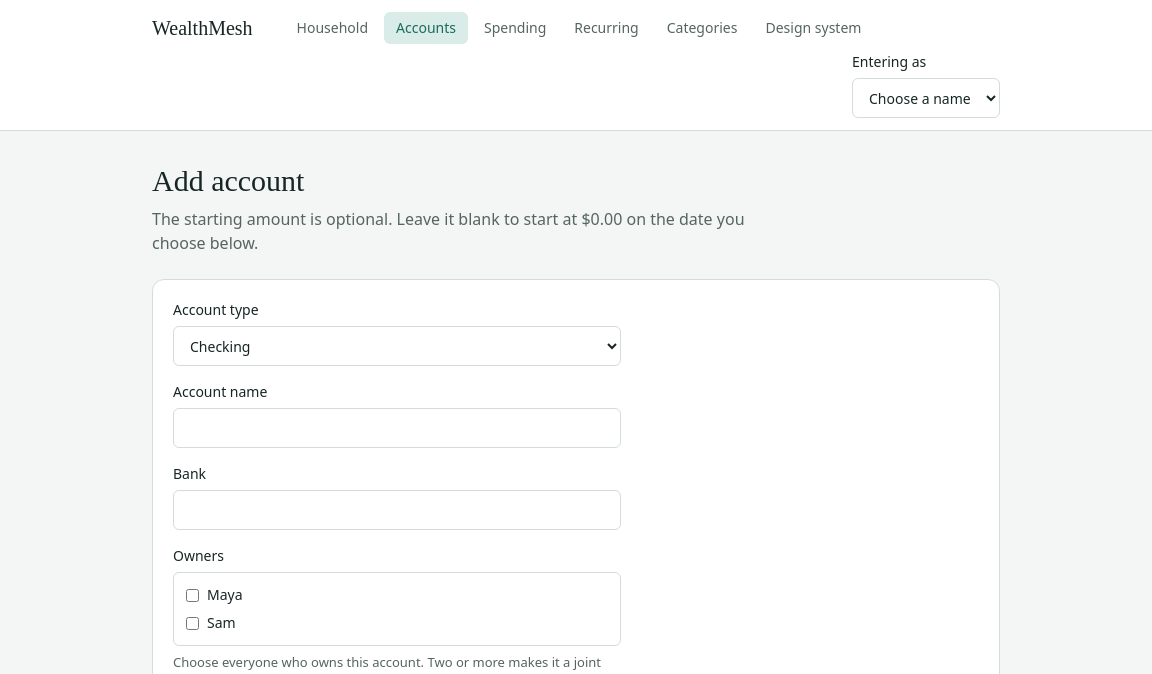
Test: adding a savings account › V2_SAVINGS_001 follows Emergency Savings from the list to its detail and its actions
Select "Savings" in the dropdown labelled "Account type": (397, 346) [173, 326, 621, 366]
In the field labelled "Account name": (397, 428) [173, 408, 621, 448], type "Emergency Savings"
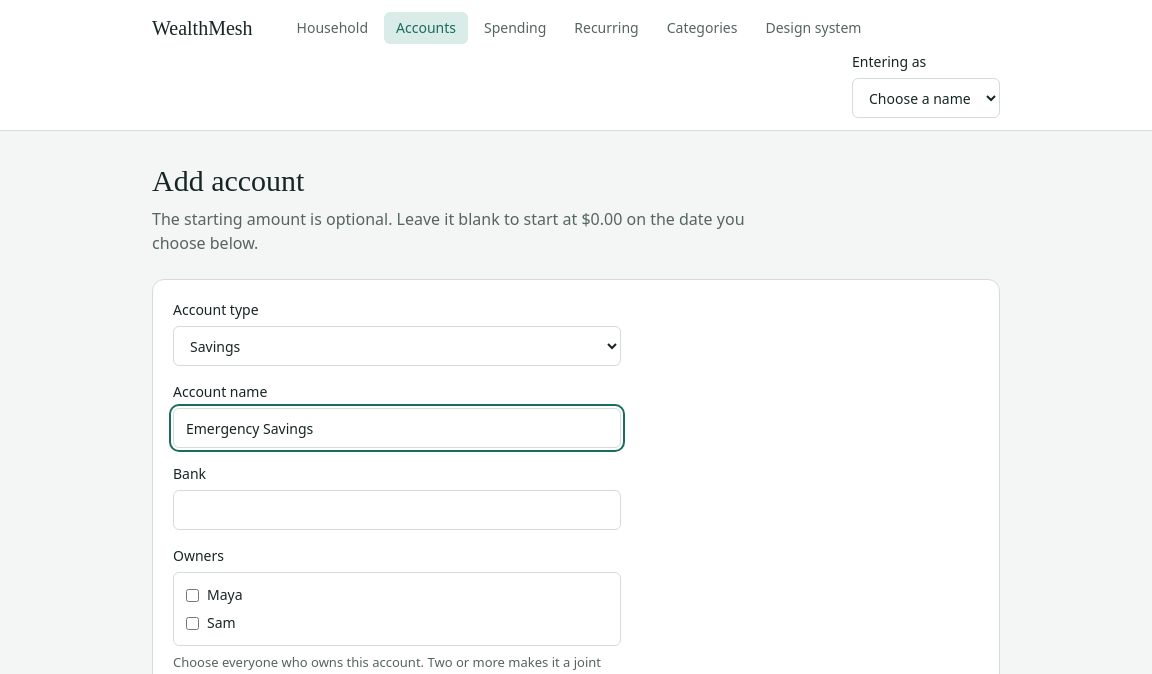
In the field labelled "Bank": (397, 510) [173, 490, 621, 530], type "Harbor Bank"
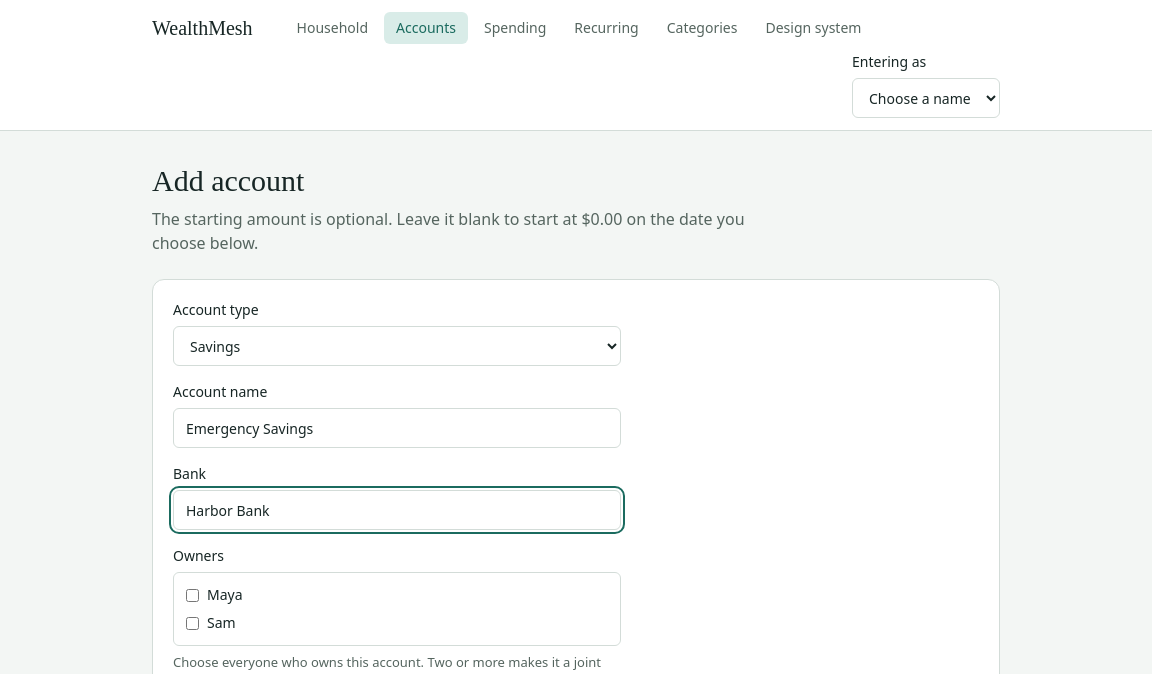
Click the checkbox labelled "Sam": (192, 623) [186, 616, 199, 630]
(page scrolled)
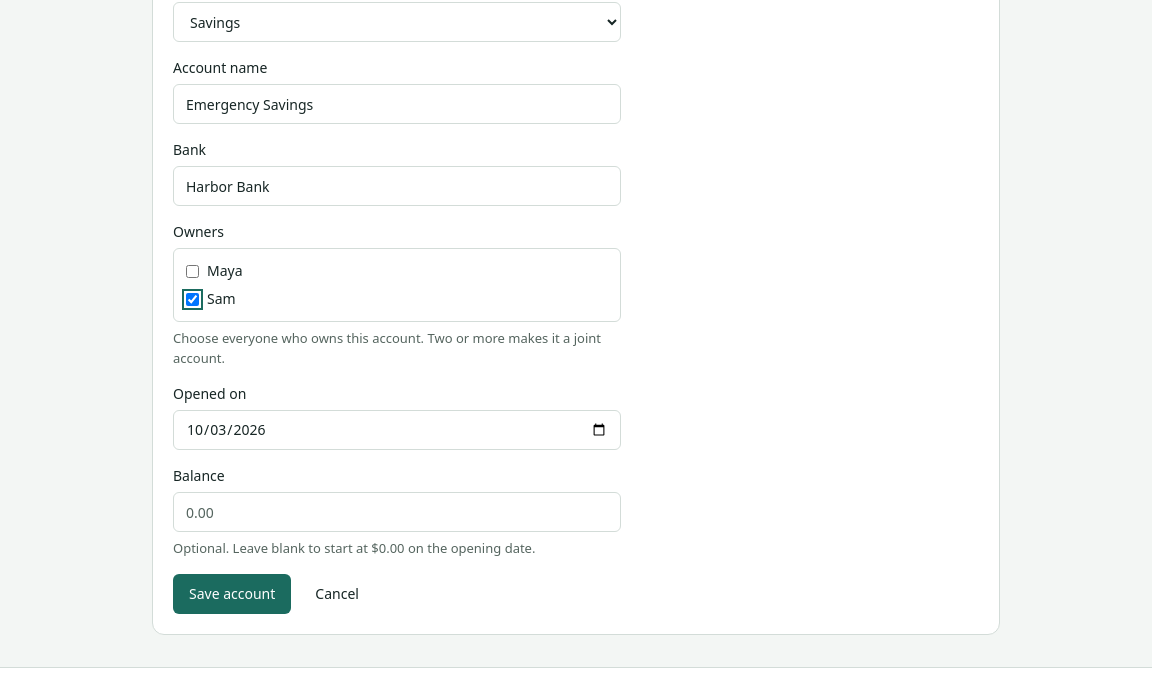
In the date field labelled "Opened on": (397, 430) [173, 410, 621, 450], type "2026-09-01"
In the field labelled "Balance": (397, 512) [173, 492, 621, 532], type "$10,000.00"
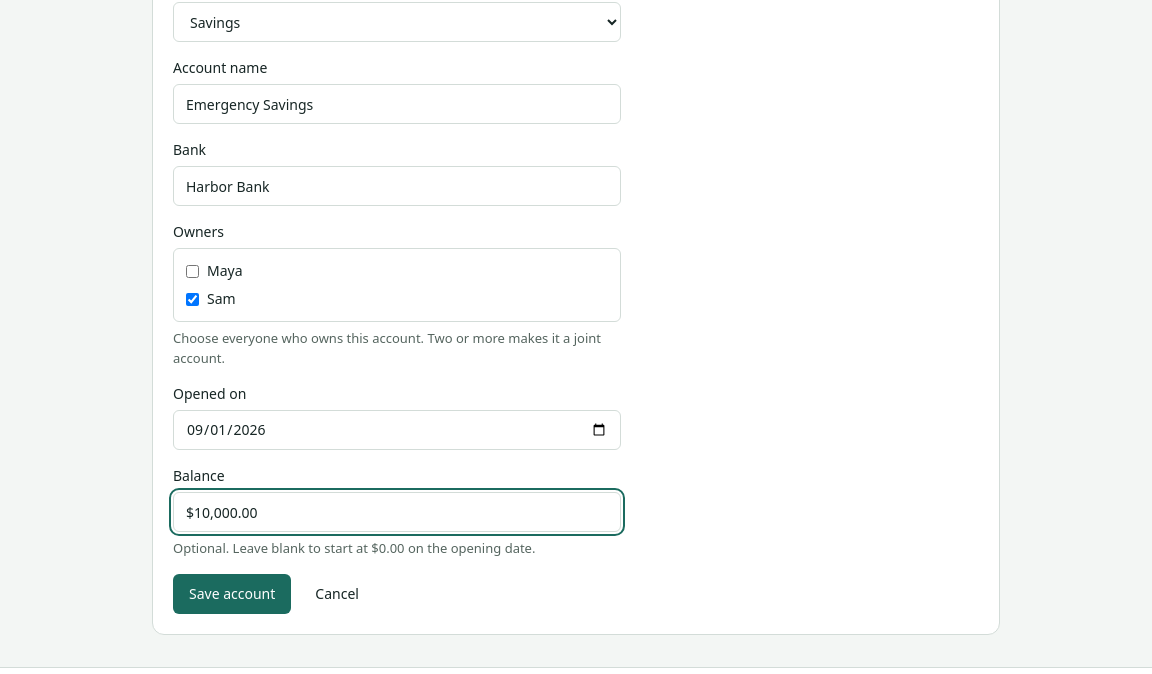
Click the button "Save account": (232, 594) [173, 574, 291, 614]
(page scrolled)
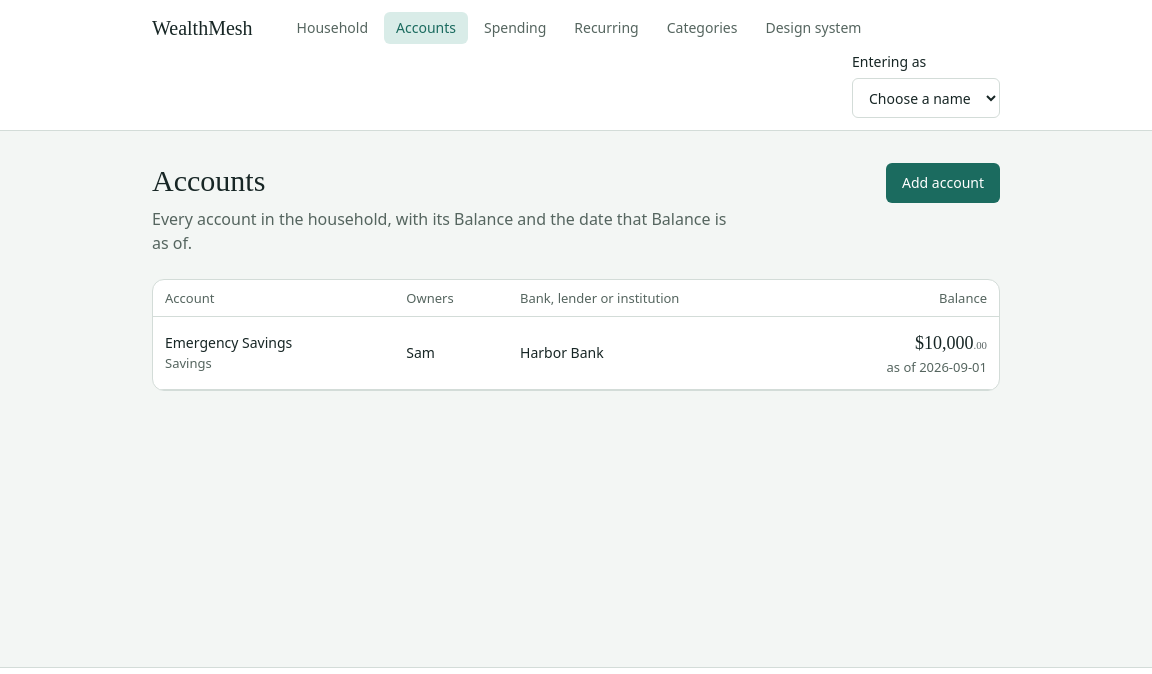
Now the row "Emergency Savings" shows "Sam", box [406, 343, 435, 362]
Now the row "Emergency Savings" shows "Harbor Bank", box [520, 343, 604, 362]
Now the row "Emergency Savings" shows "$10,000.00", box [153, 316, 999, 390]
Click the link "Emergency Savings": (229, 342) [165, 333, 292, 352]
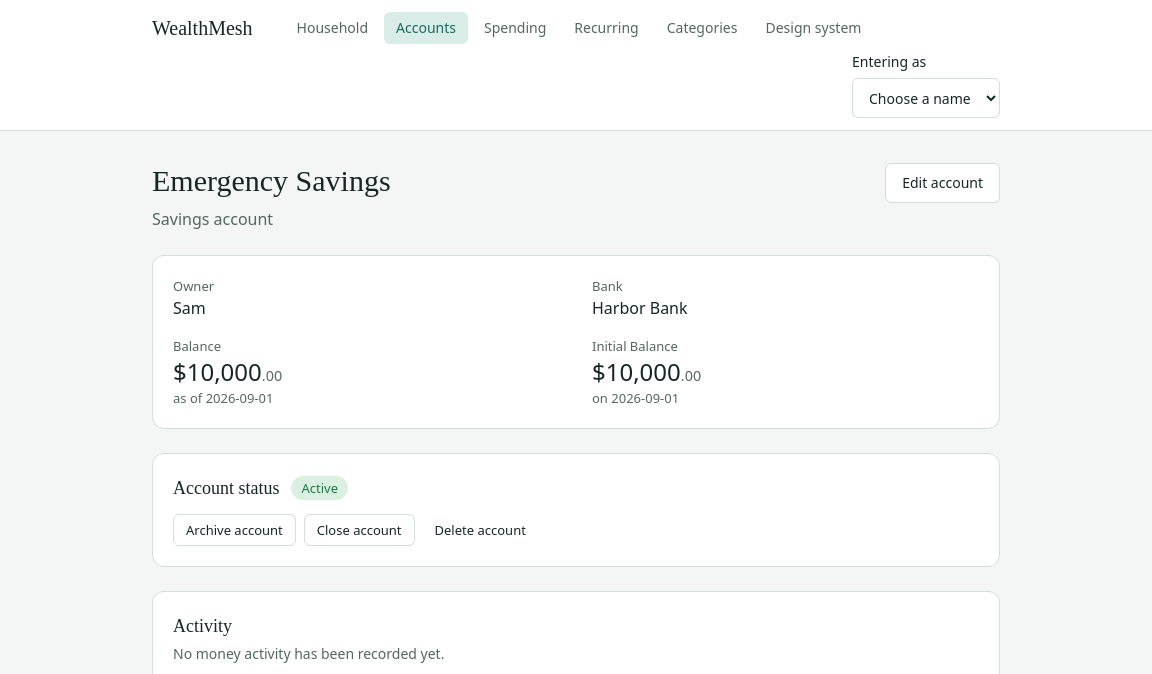
Now the heading "Emergency Savings" is shown, box [152, 163, 391, 199]
Now the element that starts with "Emergency Savings" shows "Savings account", box [152, 208, 273, 230]
Now the element that starts with "Emergency Savings" shows "No money activity has been recorded yet.", box [173, 644, 444, 663]
